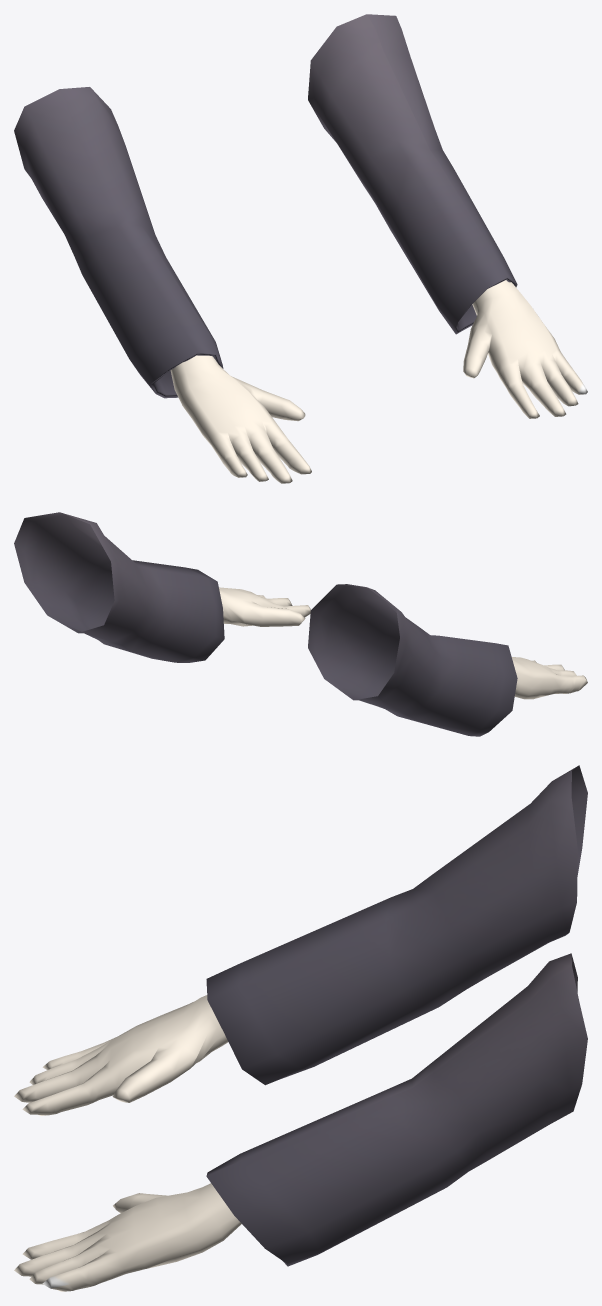
The model's file is Arm.fbx.
3 views of the same model, one above another, from view 1: azimuth 30°, elevation 25°; view 2: azimuth 150°, elevation 25°; view 3: azimuth 270°, elevation 25° (orthographic). The views are drawn at different scales.
Visible parts, largest first — view 1: Arm2; view 2: Arm2; view 3: Arm2.
Boxes of the visible parts, box(x1,y1,x2,y2) form: Arm2: box(14, 14, 587, 483); Arm2: box(14, 512, 587, 736); Arm2: box(14, 765, 587, 1291).
Size of the model in its own units: 44.82 by 27.41 by 44.23.
